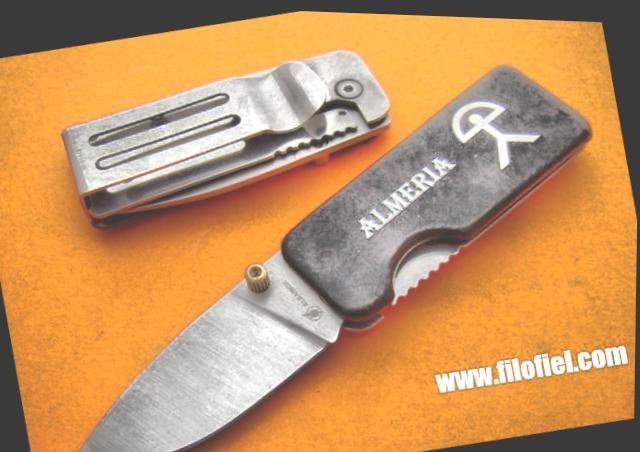knife: (29, 227, 371, 452)
